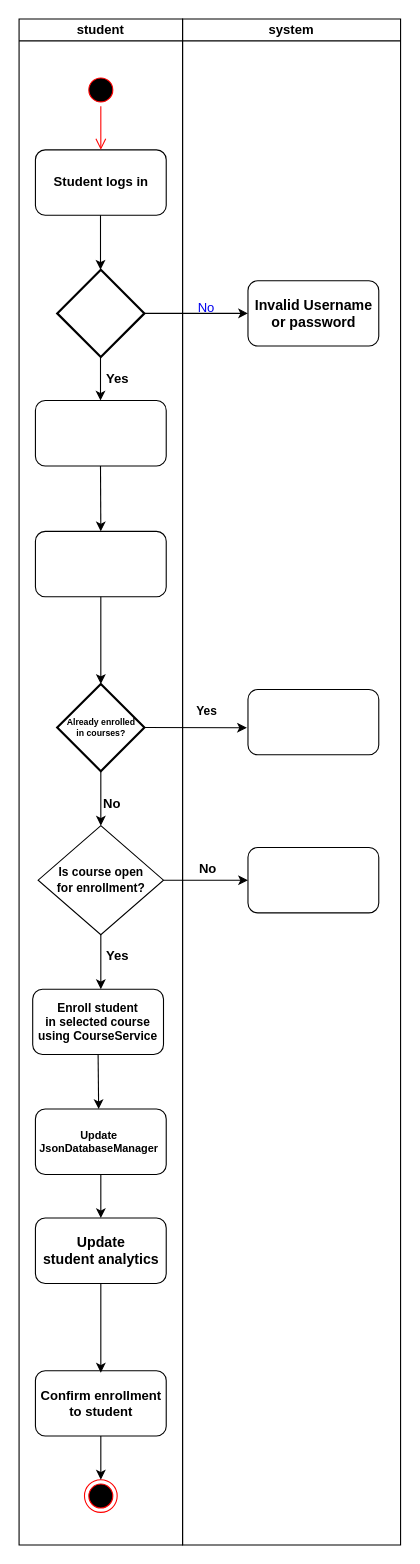
Image size: 420x1564. Some labels were removed from this diagram. The centre of each missing label's shape, as x and y in pixels:
Browse available courses: pixel 100 432
Display "Already enrolled": pixel 313 721
Display "course not available": pixel 313 879
Is login valid: pixel 100 313
Student selects a course: pixel 100 563
